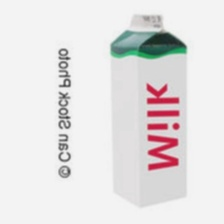carton: (106, 7, 197, 212)
